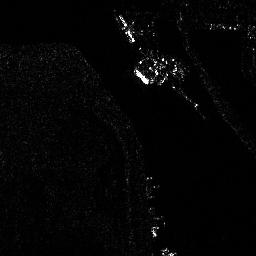ship: (132, 67, 149, 85)
